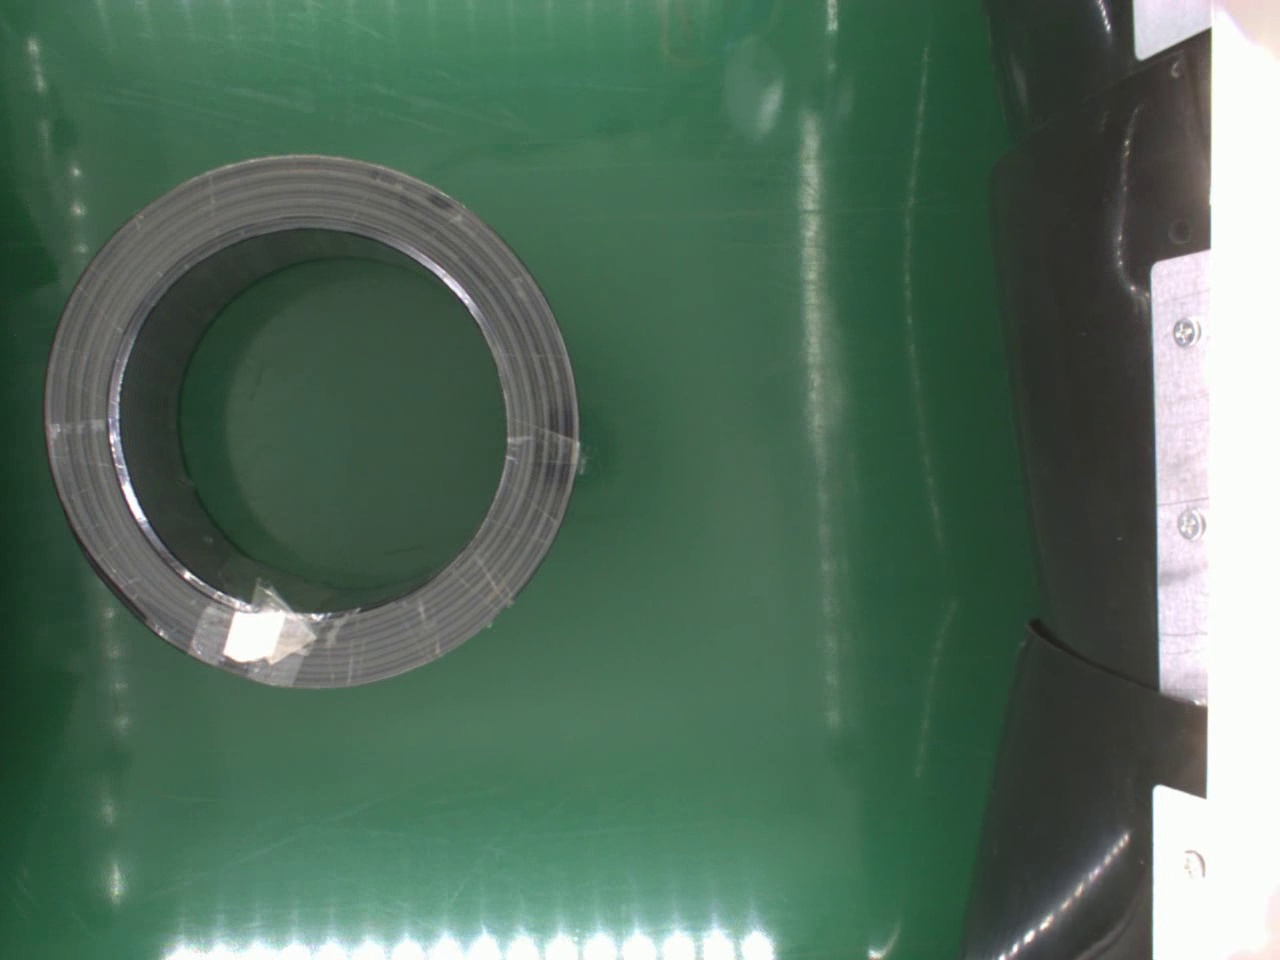black: (41, 151, 584, 695)
